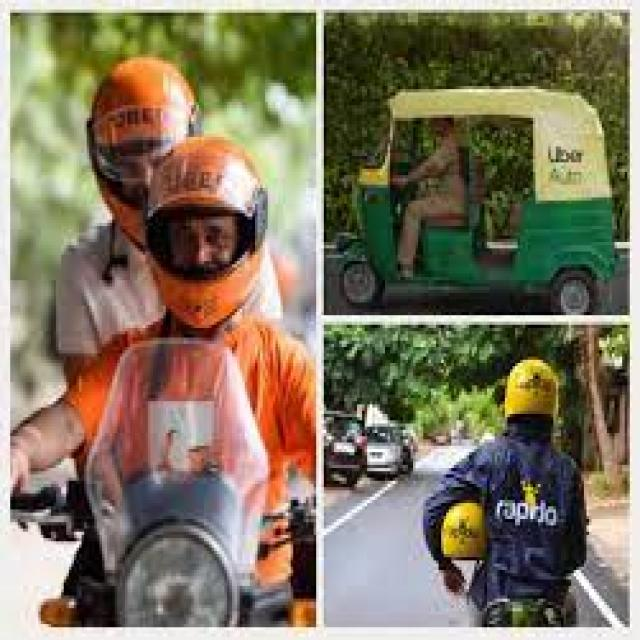Safety-Helmet: (148, 132, 269, 332), (84, 56, 201, 232), (503, 356, 558, 422), (438, 496, 489, 562)
